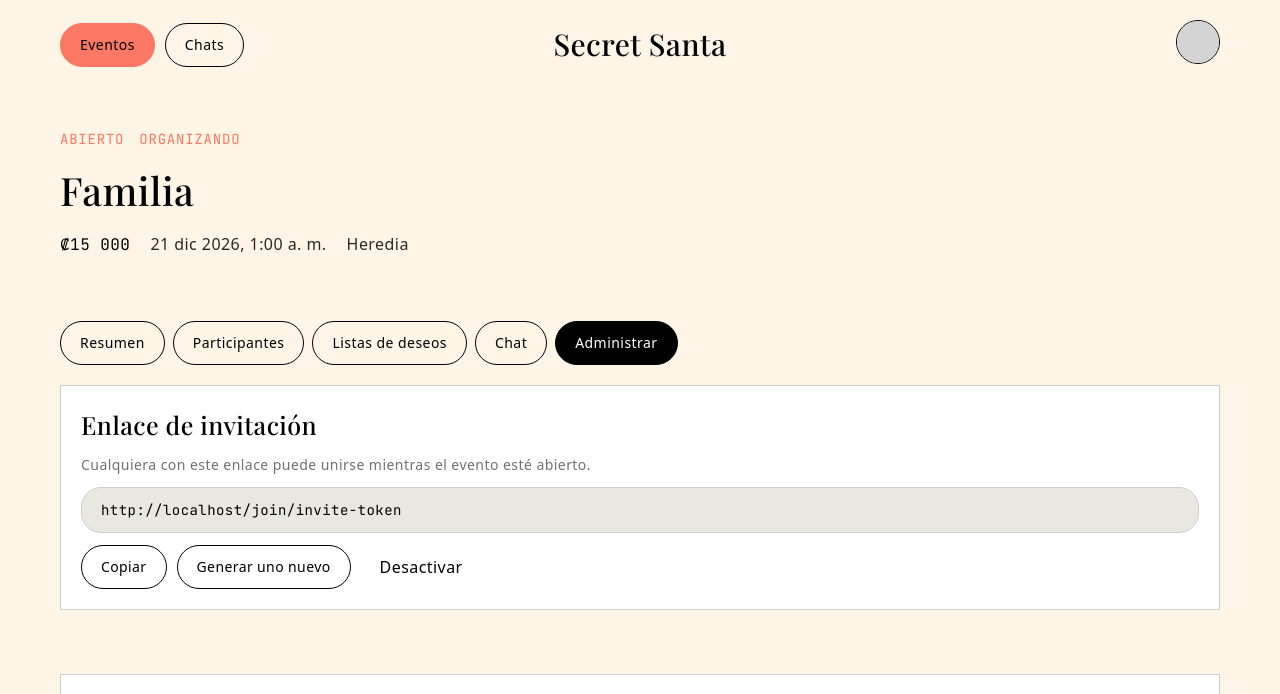
Test case: InviteLinkCard › Disable turns the link off; Enable brings a new one
Click the button "Desactivar". click: (421, 567)
box: [360,545,482,589]
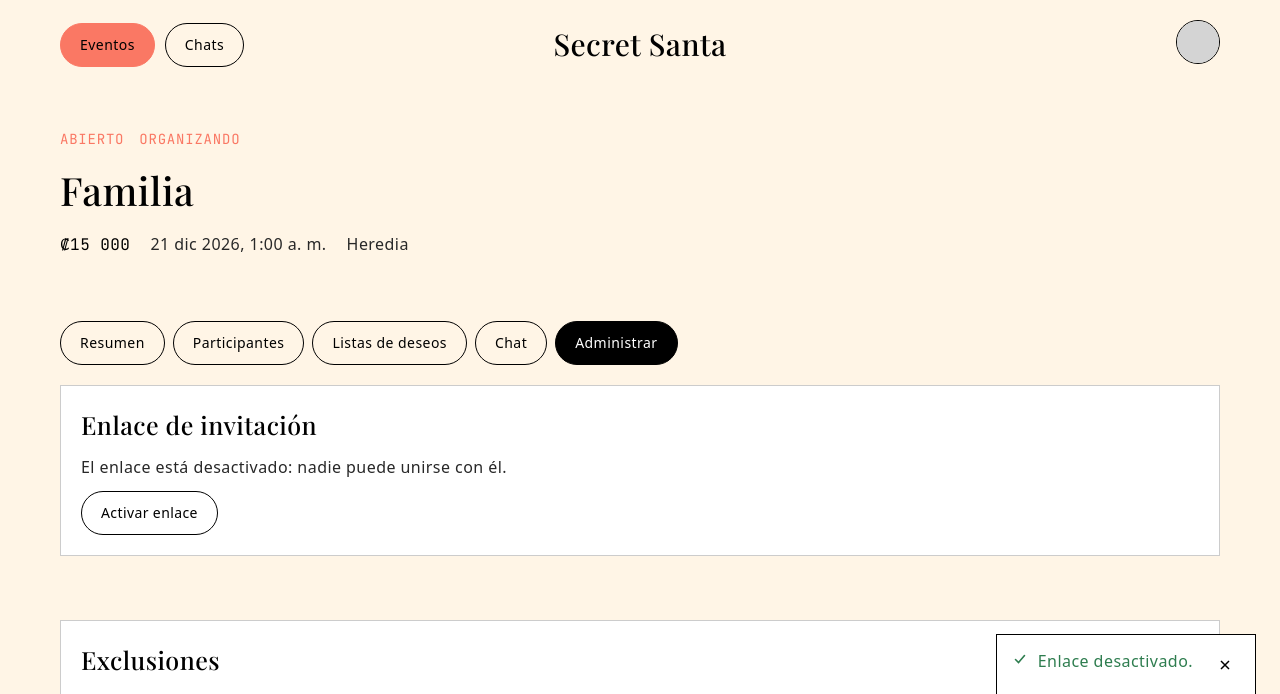
Check: the text "El enlace está desactivado: nadie puede unirse con él." is shown, box [81,456,507,478]
Check: the text with test id "invite-url" is gone
Click the button "Activar enlace". click: (149, 513)
box: [81,491,218,535]
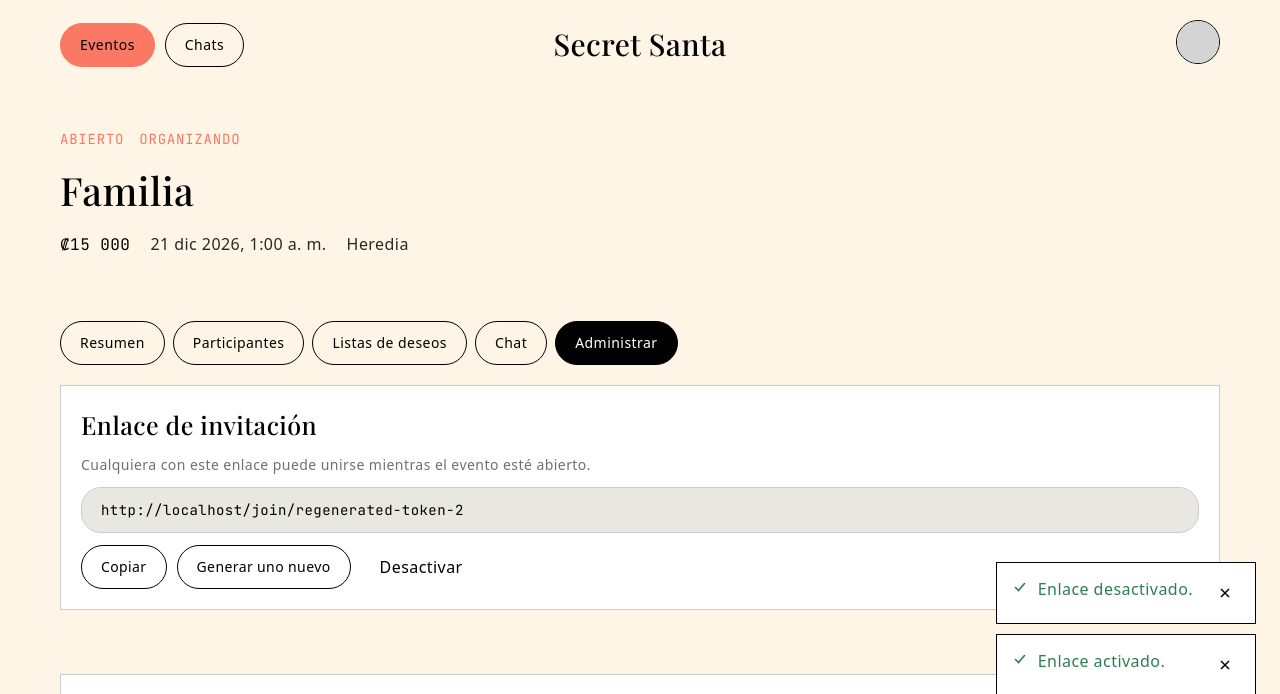
Check: the text with test id "invite-url" shows "regenerated-token", box [101,501,464,519]
